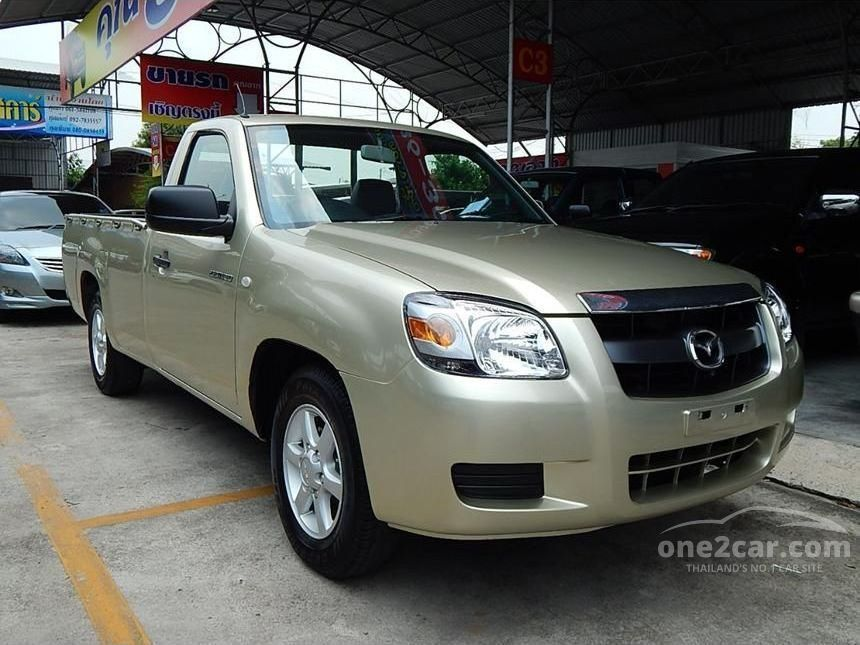pickup: (60, 107, 805, 585)
